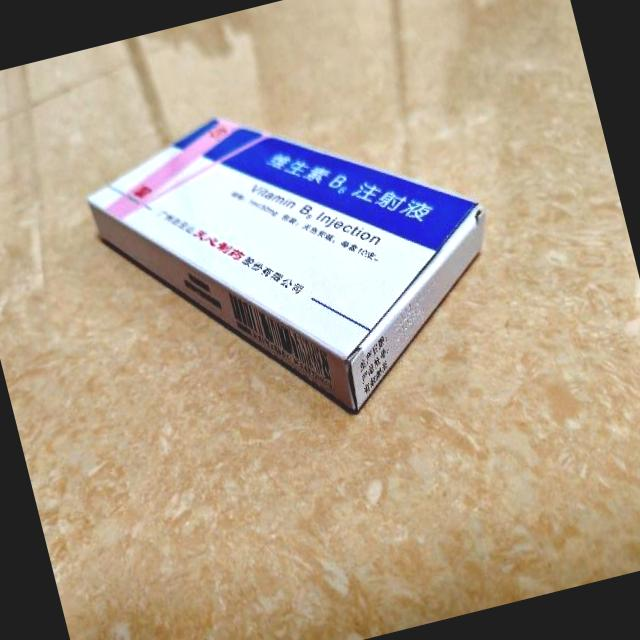box: (76, 60, 523, 464)
